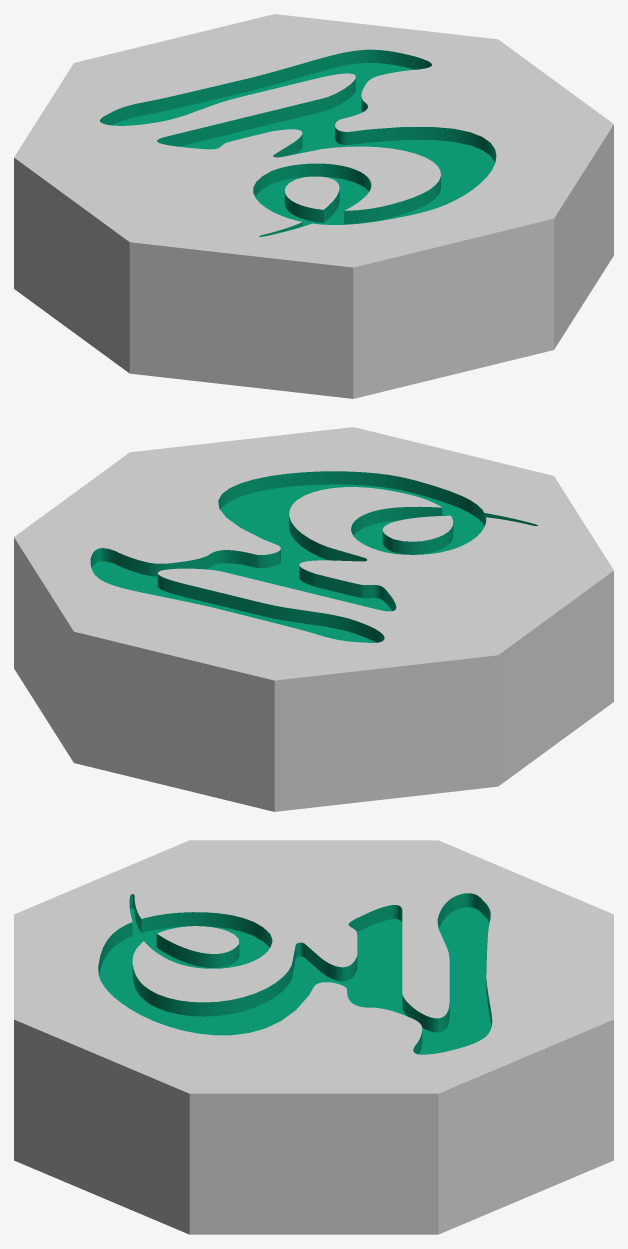
3 renders of one model, top to bottom at view 1: azimuth 30°, elevation 25°; view 2: azimuth 150°, elevation 25°; view 3: azimuth 270°, elevation 25°, orthographic. The views are drawn at different scales.
Visible parts, largest first — view 1: 초_마; view 2: 초_마; view 3: 초_마.
Boxes of the visible parts, x1=… form: 초_마: x1=14, y1=14, x2=613, y2=398; 초_마: x1=14, y1=427, x2=613, y2=811; 초_마: x1=14, y1=840, x2=613, y2=1234.
Bounding box in the file's own units: 2700 × 700 × 2700.
